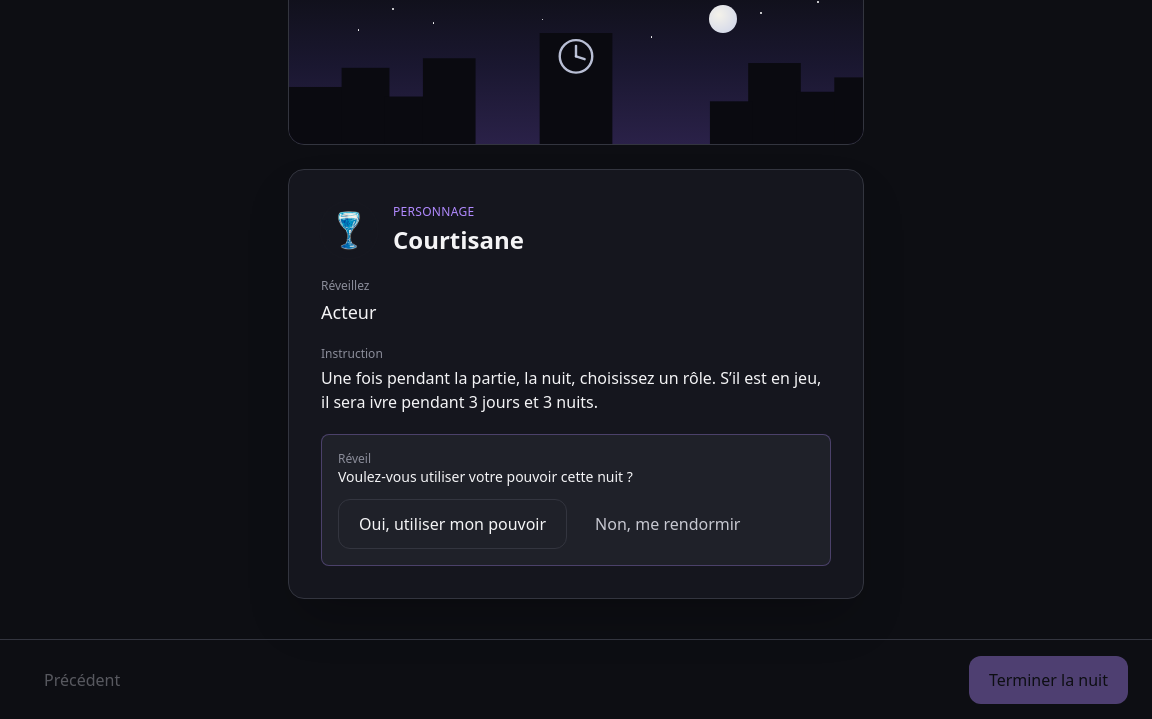
Scenario: Bad Moon Rising - pouvoirs uniques › propose d’abord le choix Oui / Non au courtier
(page scrolled)
Click the button "Oui, utiliser mon pouvoir": click(453, 524) [338,499,567,549]
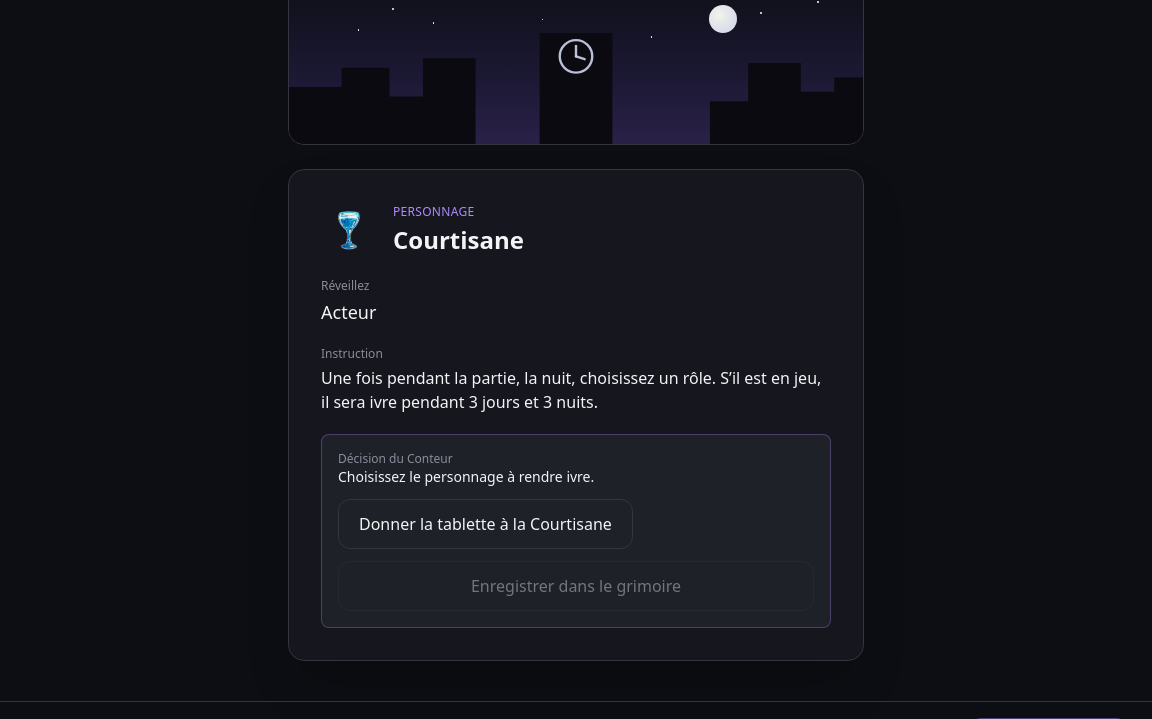
expect the button "Donner la tablette à la Courtisane" is shown: met, box [338,499,633,549]
